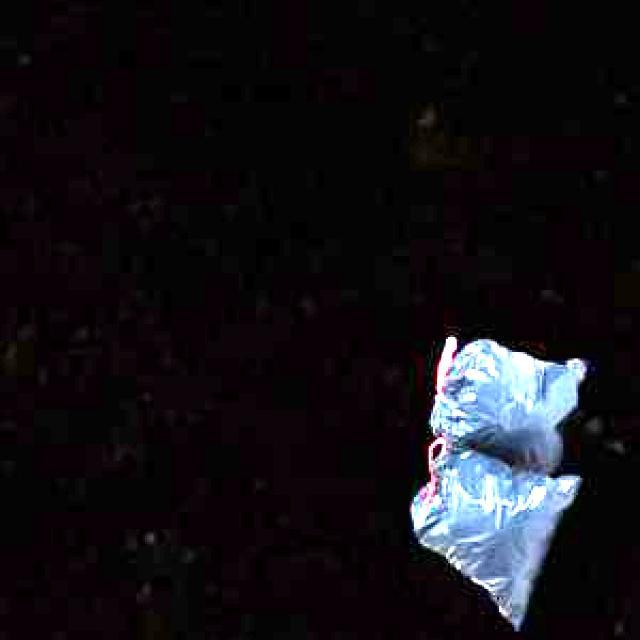Garbage_Bag: (408, 334, 584, 628)
